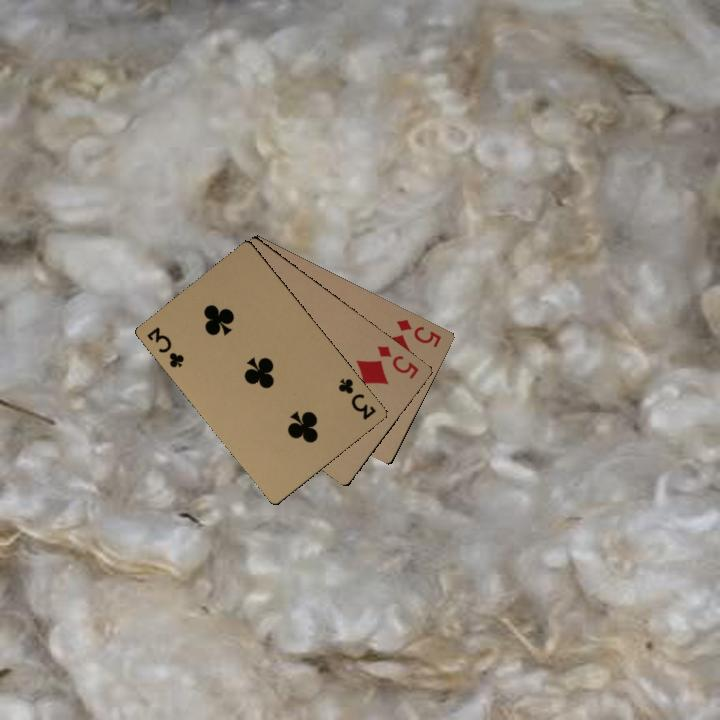3c: (334, 374, 378, 423), (143, 323, 187, 370)
5d: (373, 342, 421, 382), (392, 315, 444, 350)
